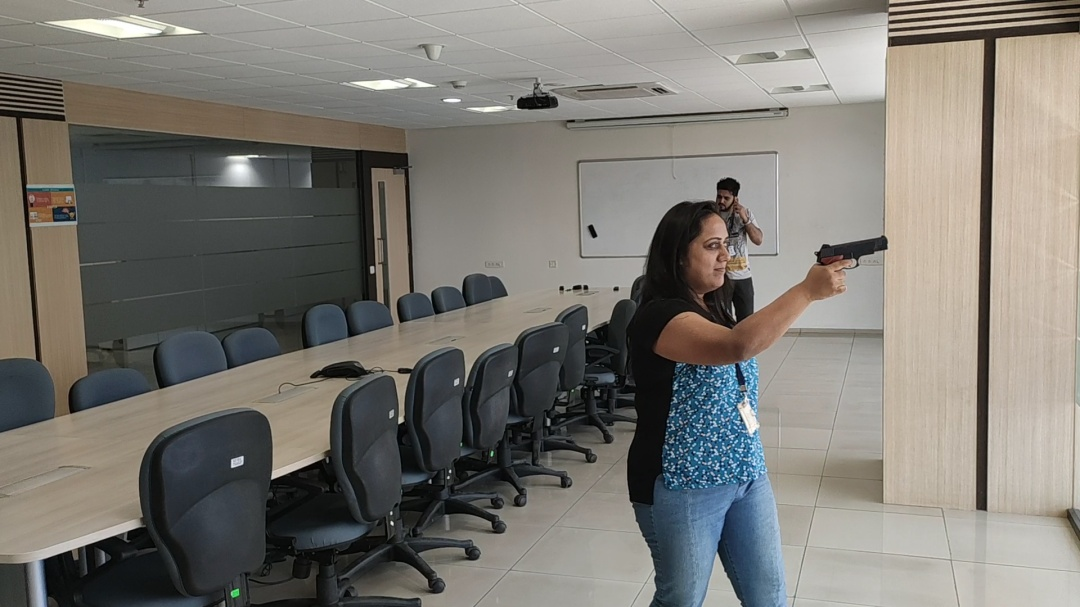gun: (814, 235, 890, 270)
